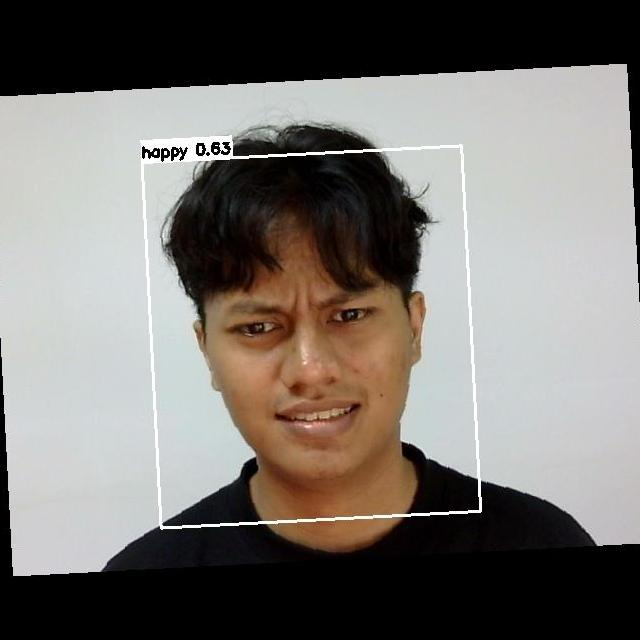Disgust: (207, 267, 415, 448)
